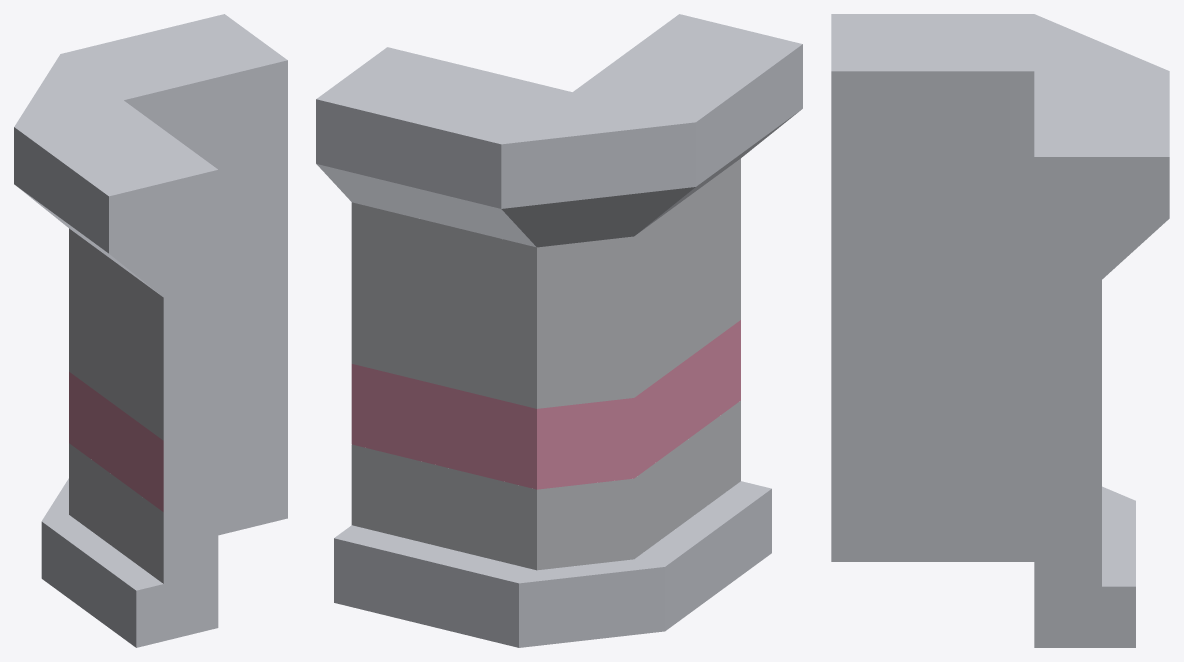
Rendered from object_010_short.glb.
3 renders of one model, left to right at view 1: azimuth 30°, elevation 25°; view 2: azimuth 150°, elevation 25°; view 3: azimuth 270°, elevation 25°, orthographic. The views are drawn at different scales.
Parts seen in each view (by area): view 1: object_010_short-col; view 2: object_010_short-col; view 3: object_010_short-col.
Part boxes in pixels (bbox=[...]): object_010_short-col: bbox=[14, 14, 287, 647]; object_010_short-col: bbox=[316, 14, 802, 647]; object_010_short-col: bbox=[831, 14, 1169, 647].
Bounding box in the file's own units: 0.625 × 1 × 0.625.
